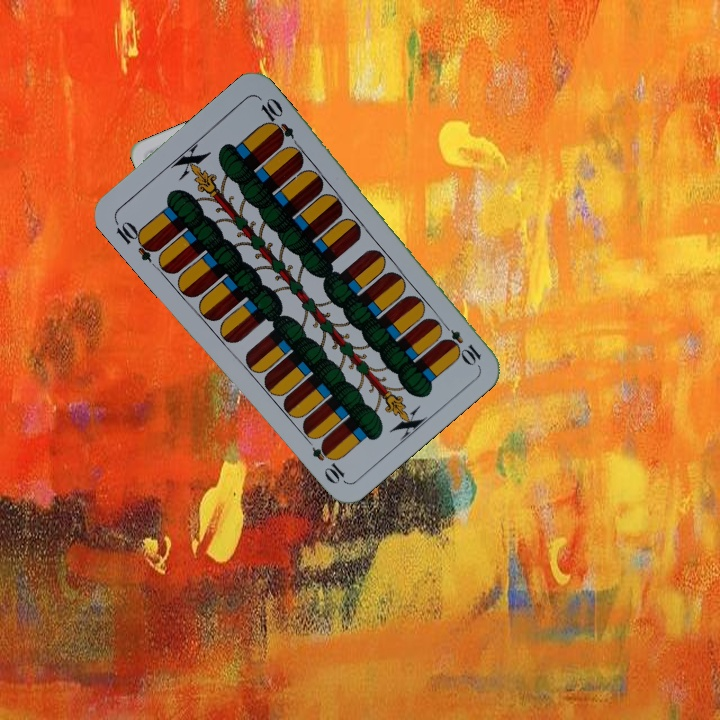E10: (110, 216, 161, 265), (436, 317, 484, 367)
